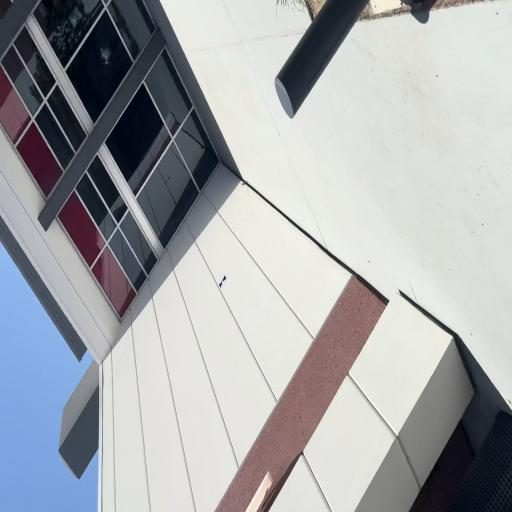target7: (219, 275, 227, 288)
